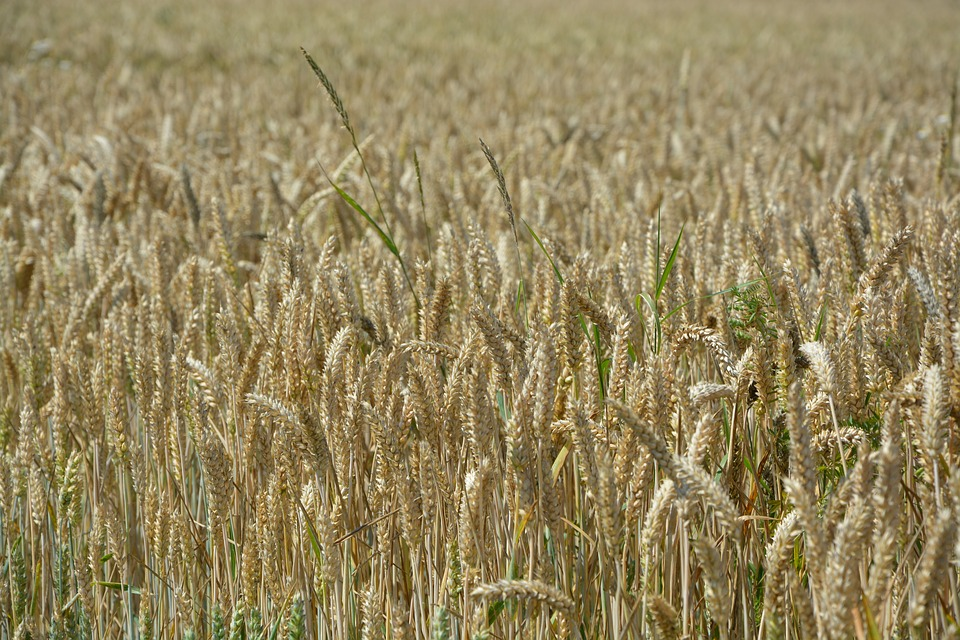Wheat: (131, 209, 940, 575)
